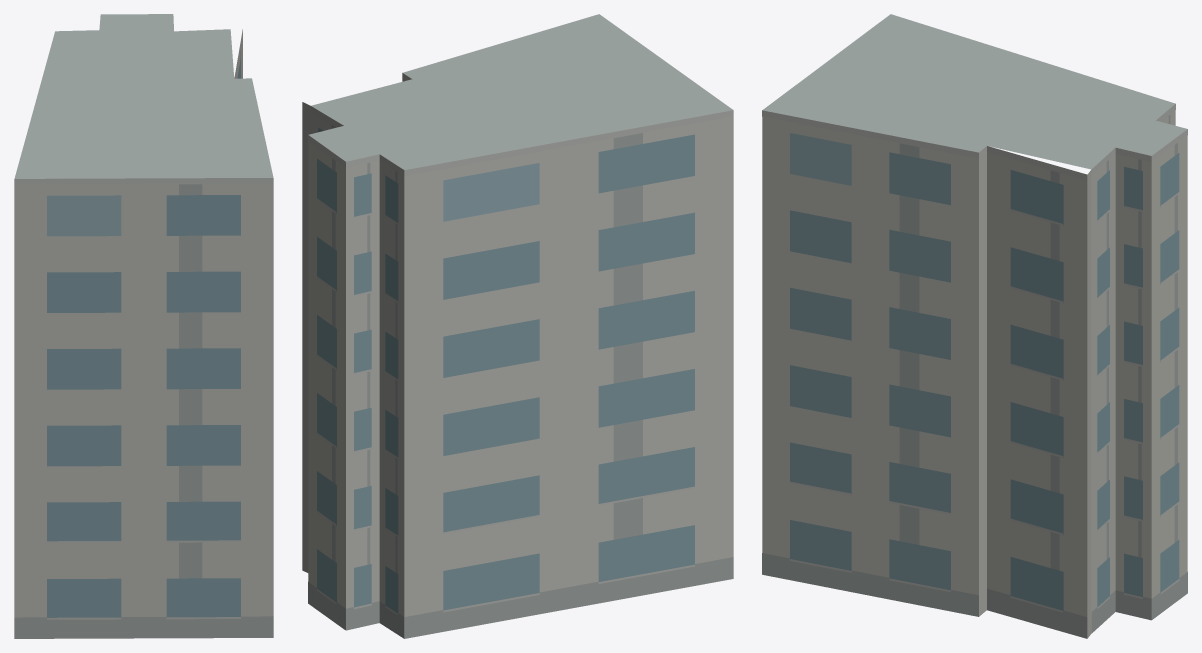
Rendered from survey-upis-32545235.glb.
The picture shows the model from 3 angles, left to right: view 1: azimuth 30°, elevation 25°; view 2: azimuth 150°, elevation 25°; view 3: azimuth 270°, elevation 25°; orthographic projection.
Parts seen in each view (by area): view 1: survey-upis-32545235.tmp; view 2: survey-upis-32545235.tmp; view 3: survey-upis-32545235.tmp.
Boxes of the visible parts, left/top/right/bottom form: survey-upis-32545235.tmp: left=14, top=14, right=273, bottom=638; survey-upis-32545235.tmp: left=302, top=14, right=733, bottom=638; survey-upis-32545235.tmp: left=762, top=14, right=1187, bottom=638.
Bounding box in the file's own units: 13.58 × 18.3 × 15.21.
